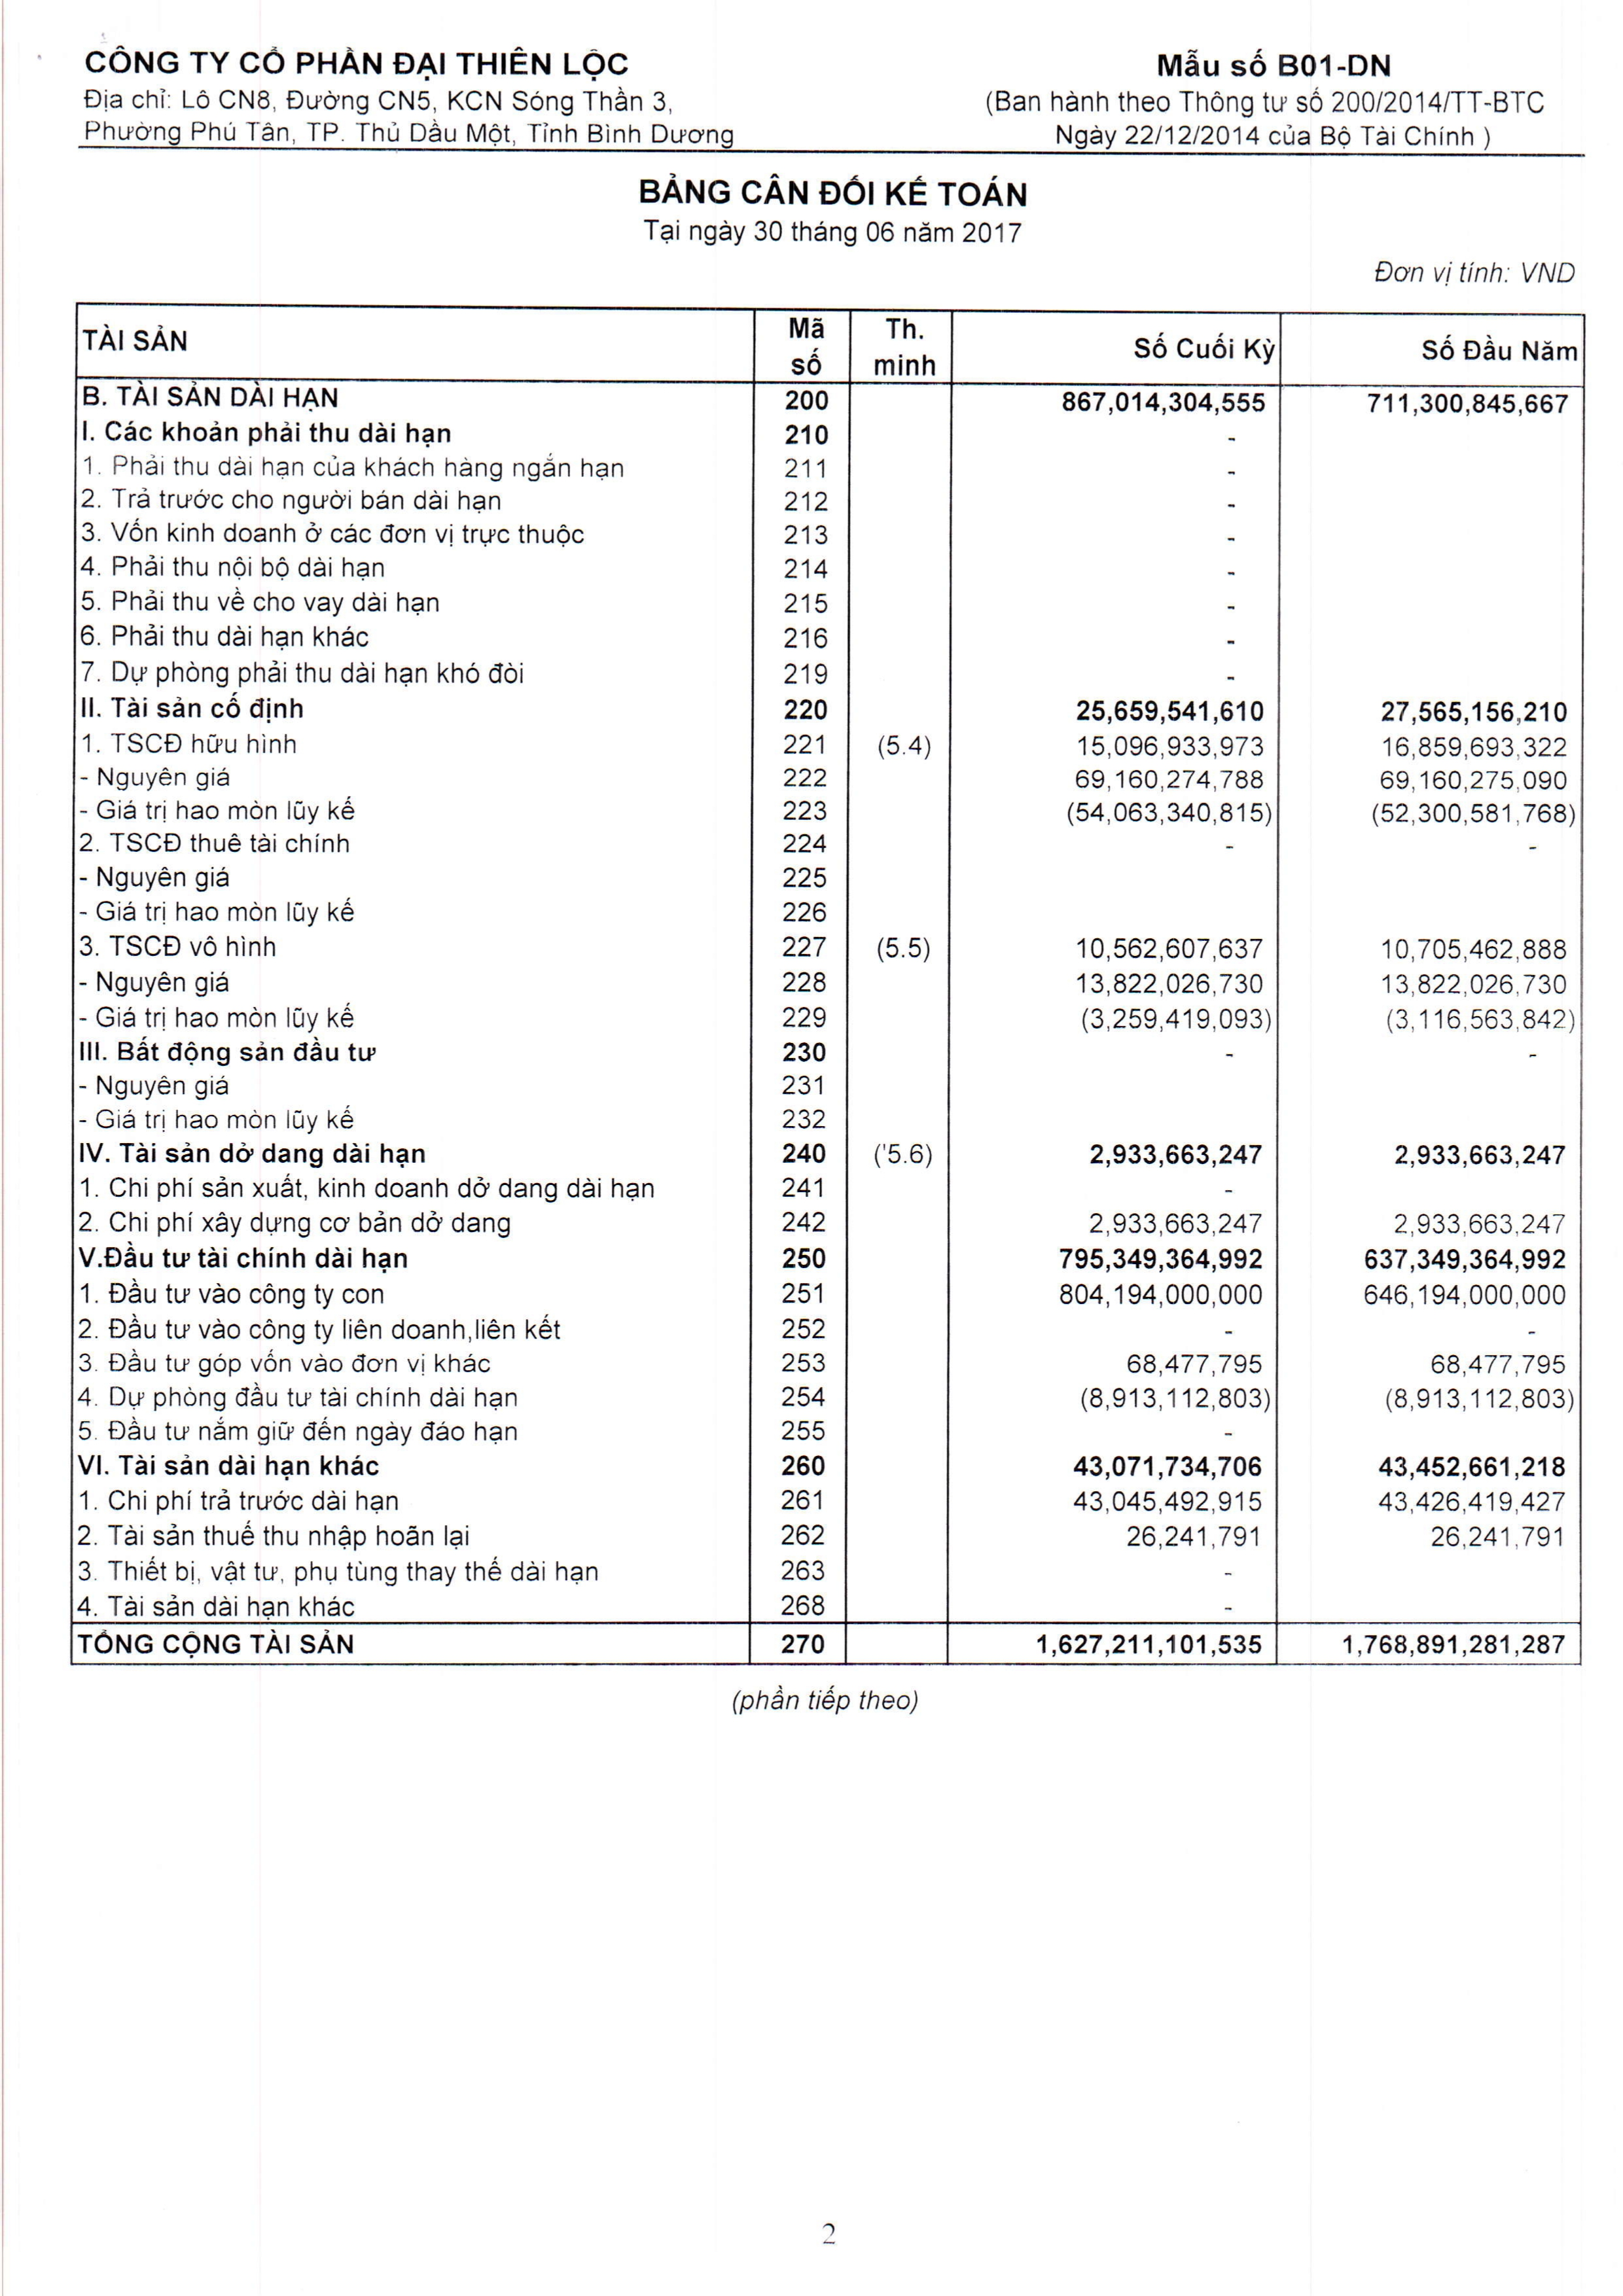table: (58, 291, 1597, 1680)
table column: (72, 291, 666, 1680), (1017, 291, 1284, 1680), (1321, 291, 1586, 1680), (855, 291, 940, 1680), (764, 291, 845, 1680)
table column header: (58, 304, 1598, 384)
table row: (58, 312, 1597, 372), (58, 718, 1597, 753), (58, 1025, 1597, 1060), (58, 1062, 1597, 1097), (58, 1267, 1597, 1302), (58, 1302, 1597, 1338), (58, 1511, 1597, 1546), (58, 1620, 1597, 1655), (58, 681, 1597, 714), (58, 923, 1597, 957), (58, 1232, 1597, 1266), (58, 1339, 1597, 1373), (58, 1374, 1597, 1408), (58, 1410, 1597, 1443), (58, 1445, 1597, 1478), (58, 377, 1597, 409), (58, 413, 1597, 444), (58, 481, 1597, 513), (58, 514, 1597, 546), (58, 579, 1597, 611), (58, 613, 1597, 644), (58, 755, 1597, 786), (58, 822, 1597, 853), (58, 992, 1597, 1023), (58, 1480, 1597, 1511), (58, 1582, 1597, 1613), (58, 448, 1597, 477), (58, 548, 1597, 578), (58, 649, 1597, 679), (58, 790, 1597, 820), (58, 857, 1597, 886), (58, 890, 1597, 920), (58, 958, 1597, 988), (58, 1099, 1597, 1129), (58, 1132, 1597, 1162), (58, 1166, 1597, 1195), (58, 1201, 1597, 1231), (58, 1548, 1597, 1578)
